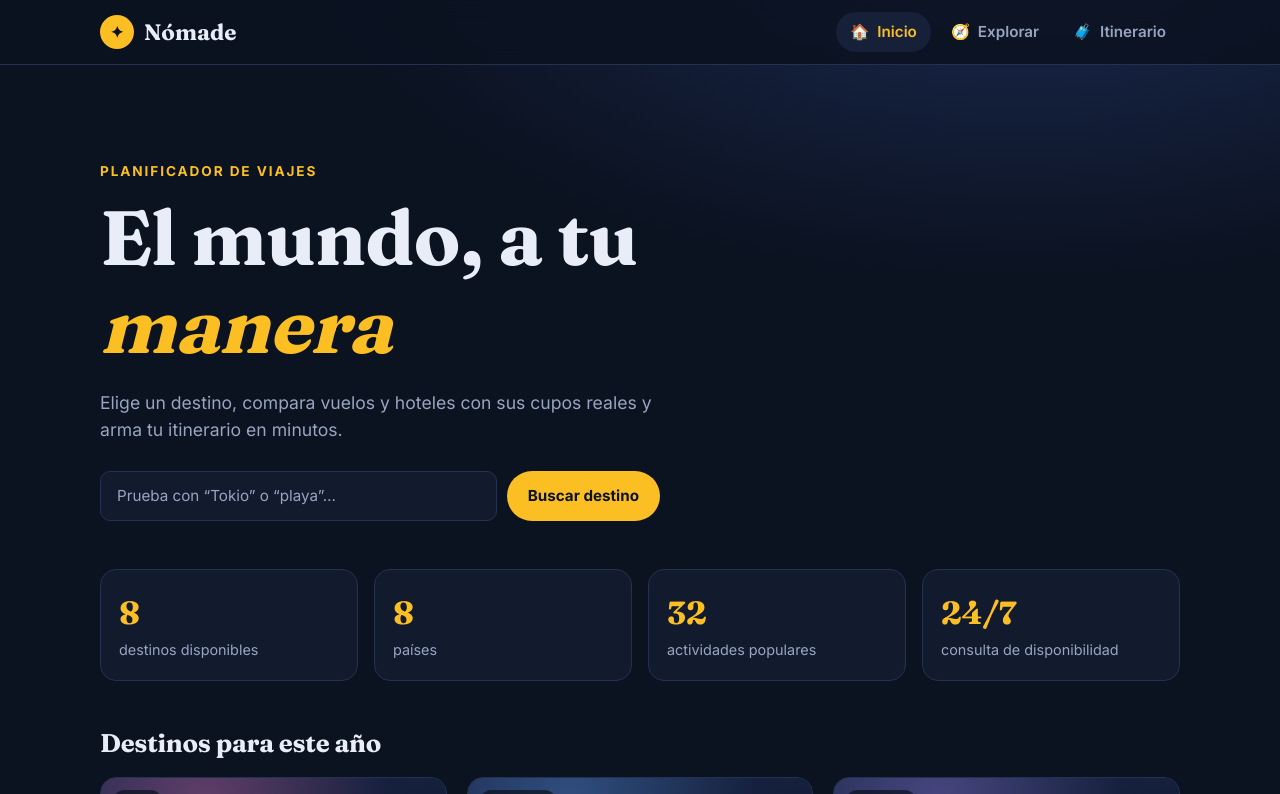
Test: API REST mock: destinos › el buscador del inicio lleva al listado con el texto en la URL
The width and height of the screenshot is (1280, 794).
Type "bali" into the field named "A dónde quieres ir". click: (298, 496)
box: [100,471,497,521]
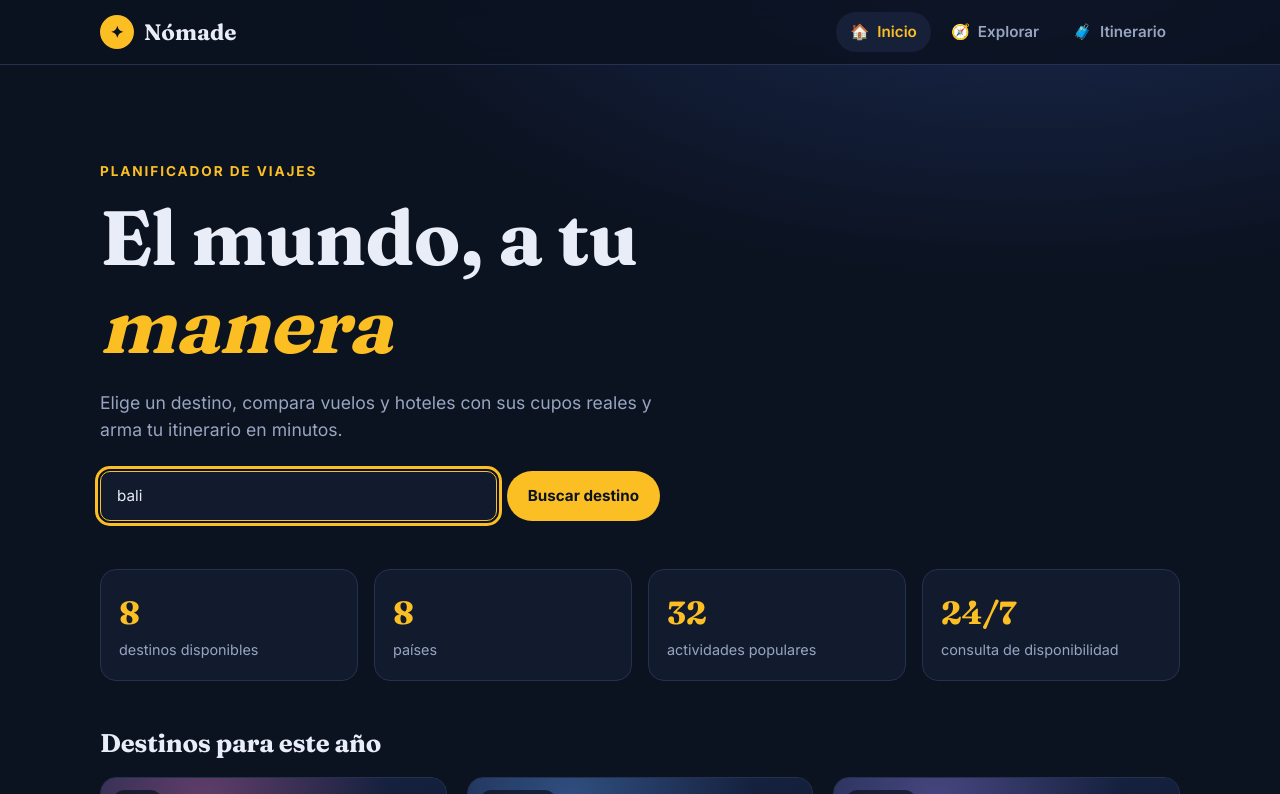
Click the button "Buscar destino". click: (583, 496)
box: [507,471,660,521]
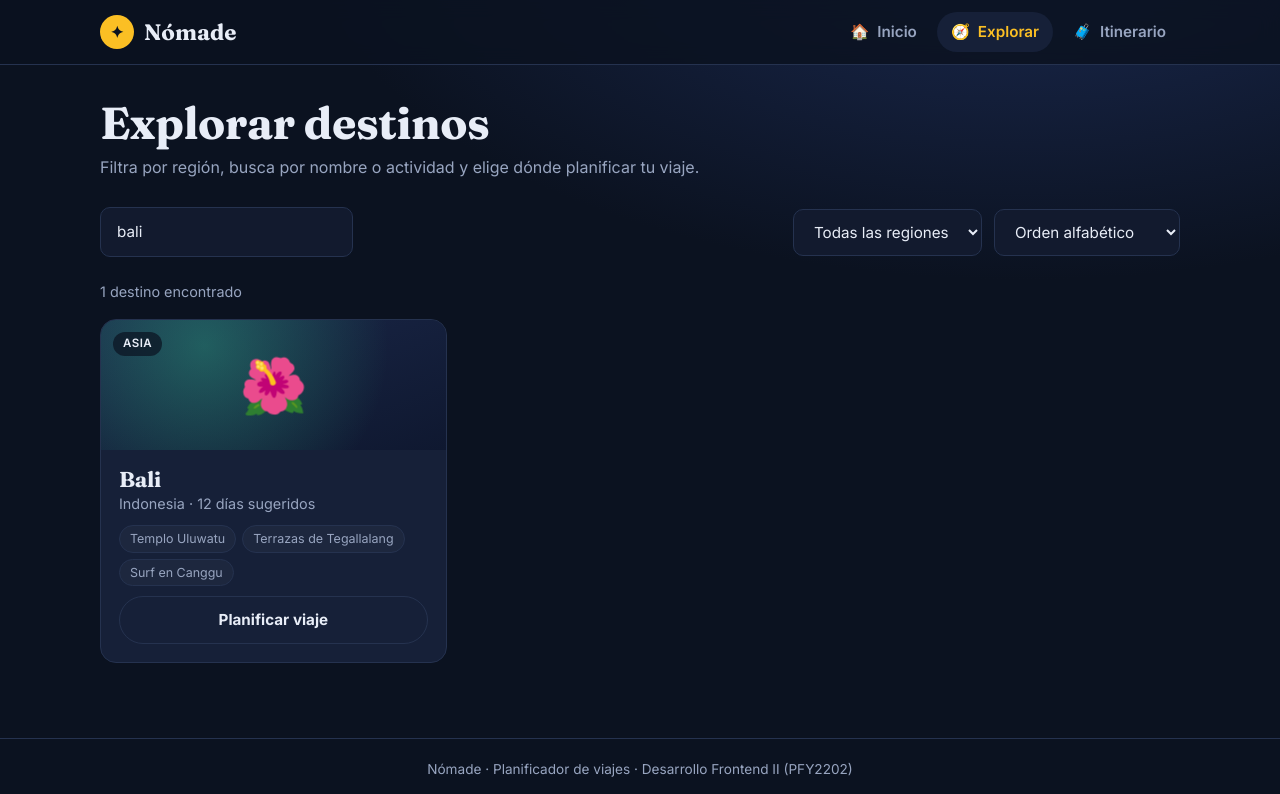
Expected: the heading "Bali" is shown, [119,466,161,493]
Expected: the text "1 destino encontrado" is shown, [100,283,242,300]
